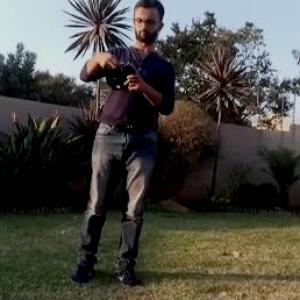follow: (66, 0, 184, 292)
